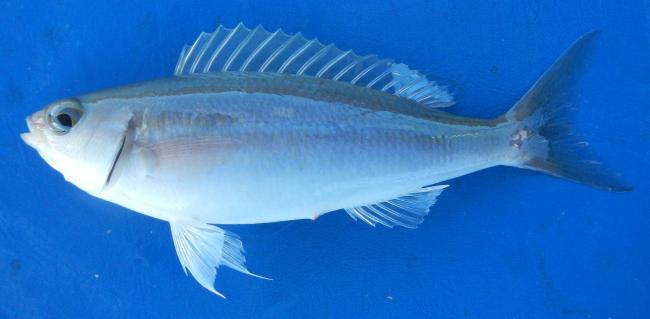fish: (19, 19, 632, 300)
